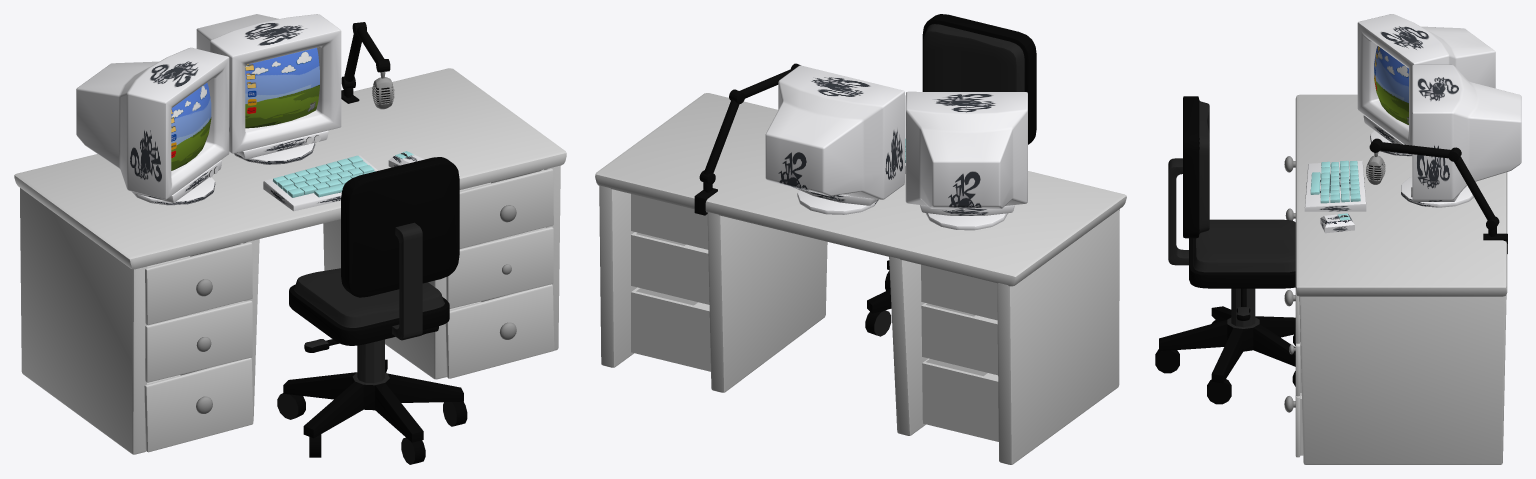
File: PC_Set-Up.fbx
3 renders of one model, left to right at view 1: azimuth 30°, elevation 25°; view 2: azimuth 150°, elevation 25°; view 3: azimuth 270°, elevation 25°, orthographic. The views are drawn at different scales.
Visible parts, largest first — view 1: Desk, Pc_Chair, Box015, Box016, Bottom_Drawer_L, Bottom_Drawer_R, Top_Drawer_L, Middle_Drawer_L, Middle_Drawer_R, Top_Drawer_R, Screen, screen (+4 smaller); view 2: Desk, Box016, Box015, Pc_Chair, Bottom_Drawer_R, Bottom_Drawer_L, Middle_Drawer_R, Middle_Drawer_L, Top_Drawer_L, Top_Drawer_R, Box017; view 3: Desk, Pc_Chair, Box016, Box015, screen, Box017, Key_1, Keys, Mouse, Bottom_Drawer_R, Box019.
Part boxes in pixels (bbox=[...]): Desk: bbox=[14, 68, 566, 454]; Pc_Chair: bbox=[277, 157, 467, 464]; Box015: bbox=[76, 47, 229, 205]; Box016: bbox=[196, 14, 341, 164]; Bottom_Drawer_L: bbox=[144, 358, 253, 452]; Bottom_Drawer_R: bbox=[445, 284, 554, 378]; Top_Drawer_L: bbox=[145, 242, 252, 324]; Middle_Drawer_L: bbox=[145, 300, 252, 382]; Middle_Drawer_R: bbox=[446, 227, 553, 308]; Top_Drawer_R: bbox=[459, 168, 553, 248]; Screen: bbox=[245, 47, 319, 128]; screen: bbox=[171, 83, 211, 170]; Desk: bbox=[595, 93, 1126, 464]; Box016: bbox=[765, 65, 904, 214]; Box015: bbox=[905, 91, 1027, 230]; Pc_Chair: bbox=[865, 14, 1036, 336]; Bottom_Drawer_R: bbox=[631, 287, 710, 371]; Bottom_Drawer_L: bbox=[922, 358, 998, 441]; Middle_Drawer_R: bbox=[631, 232, 709, 304]; Middle_Drawer_L: bbox=[921, 303, 997, 375]; Top_Drawer_L: bbox=[921, 264, 997, 320]; Top_Drawer_R: bbox=[631, 194, 708, 249]; Box017: bbox=[694, 63, 800, 215]; Desk: bbox=[1295, 94, 1507, 464]; Pc_Chair: bbox=[1155, 96, 1295, 404]; Box016: bbox=[1401, 64, 1521, 207]; Box015: bbox=[1357, 14, 1495, 156]; screen: bbox=[1374, 46, 1408, 124]; Box017: bbox=[1369, 138, 1507, 253]; Key_1: bbox=[1320, 160, 1360, 203]; Keys: bbox=[1304, 160, 1366, 211]; Mouse: bbox=[1320, 213, 1354, 233]; Bottom_Drawer_R: bbox=[1295, 393, 1303, 457]; Box019: bbox=[1366, 155, 1385, 184].
Bounding box in the file's own units: 87.26 × 60.4 × 69.96.
12 materials, 2 textured.
